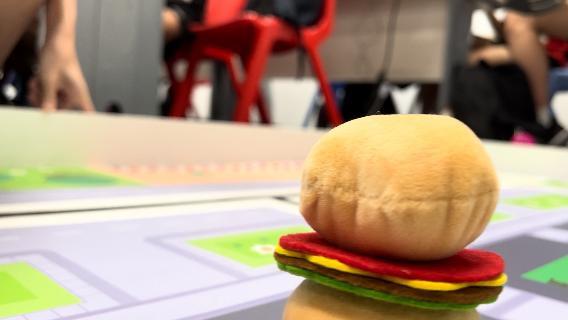burger: (272, 108, 508, 320)
